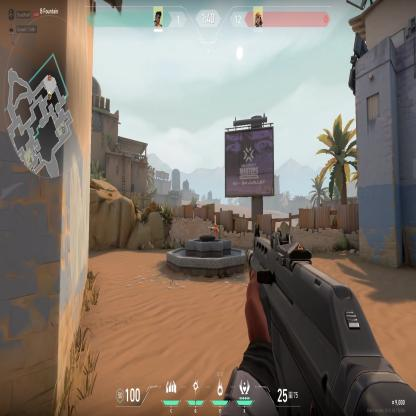enemy: (210, 222, 219, 239)
